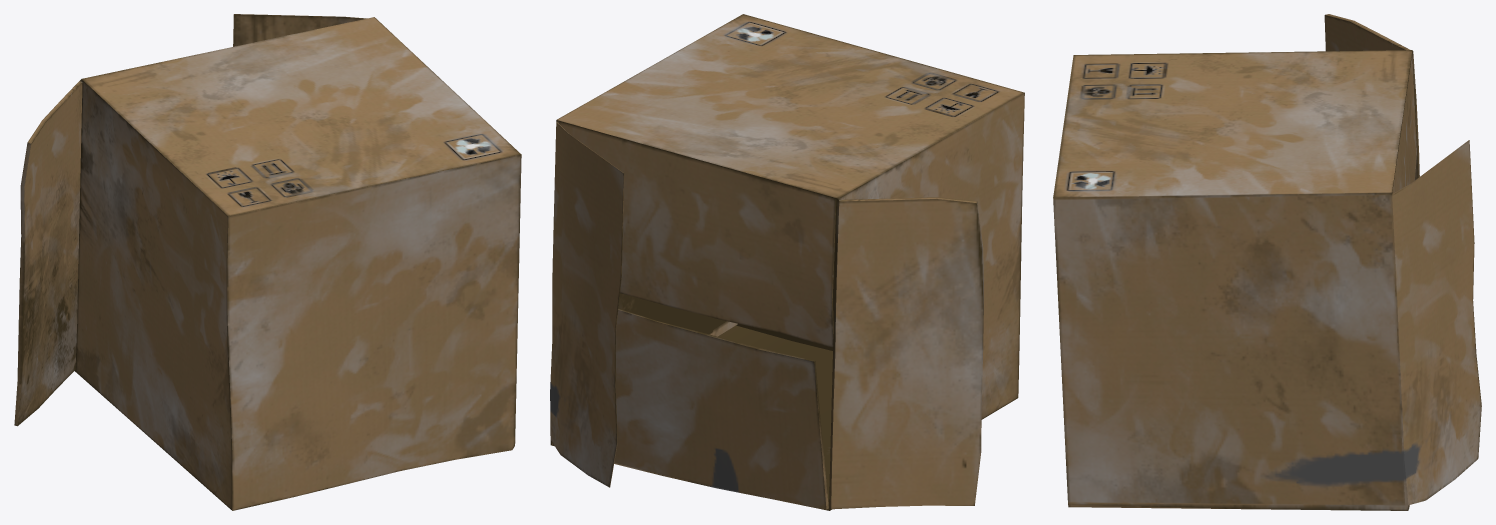
Rendered from SM_CardBoardBox01.fbx.
The picture shows the model from 3 angles, left to right: view 1: azimuth 30°, elevation 25°; view 2: azimuth 150°, elevation 25°; view 3: azimuth 270°, elevation 25°; orthographic projection. The views are drawn at different scales.
Parts seen in each view (by area): view 1: SM_CardBoardBox01_LOD0; view 2: SM_CardBoardBox01_LOD0; view 3: SM_CardBoardBox01_LOD0.
Boxes of the visible parts, bbox=[...] form: SM_CardBoardBox01_LOD0: bbox=[14, 14, 521, 510]; SM_CardBoardBox01_LOD0: bbox=[550, 14, 1024, 510]; SM_CardBoardBox01_LOD0: bbox=[1053, 14, 1481, 510].
Bounding box in the file's own units: 29.25 × 27.32 × 22.83.
Materials: 1 (1 with a texture image).
